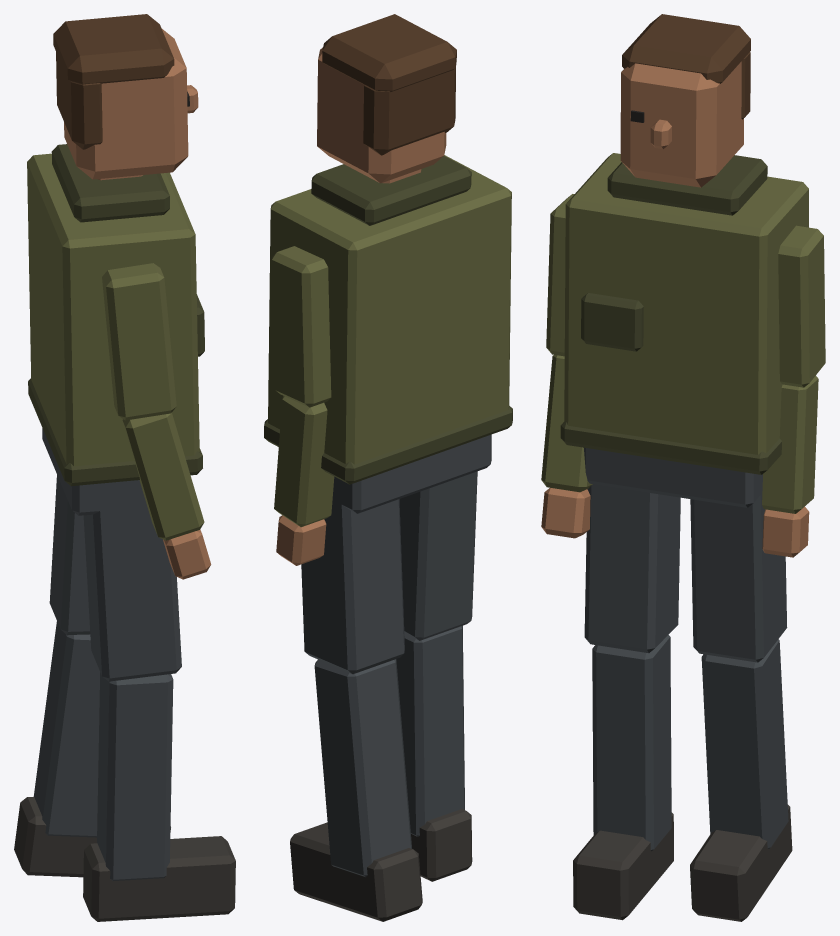
File: survivor_base_default_idle.glb
The picture shows the model from 3 angles, left to right: view 1: azimuth 30°, elevation 25°; view 2: azimuth 150°, elevation 25°; view 3: azimuth 270°, elevation 25°; orthographic projection.
Visible parts, largest first — view 1: survivor_base_idle_0; view 2: survivor_base_idle_0; view 3: survivor_base_idle_0.
Boxes of the visible parts, bbox=[...] form: survivor_base_idle_0: bbox=[14, 14, 235, 921]; survivor_base_idle_0: bbox=[264, 14, 512, 921]; survivor_base_idle_0: bbox=[541, 14, 825, 921].
Bounding box in the file's own units: 0.3777 × 1.76 × 0.5294.
1 material, 1 textured.
